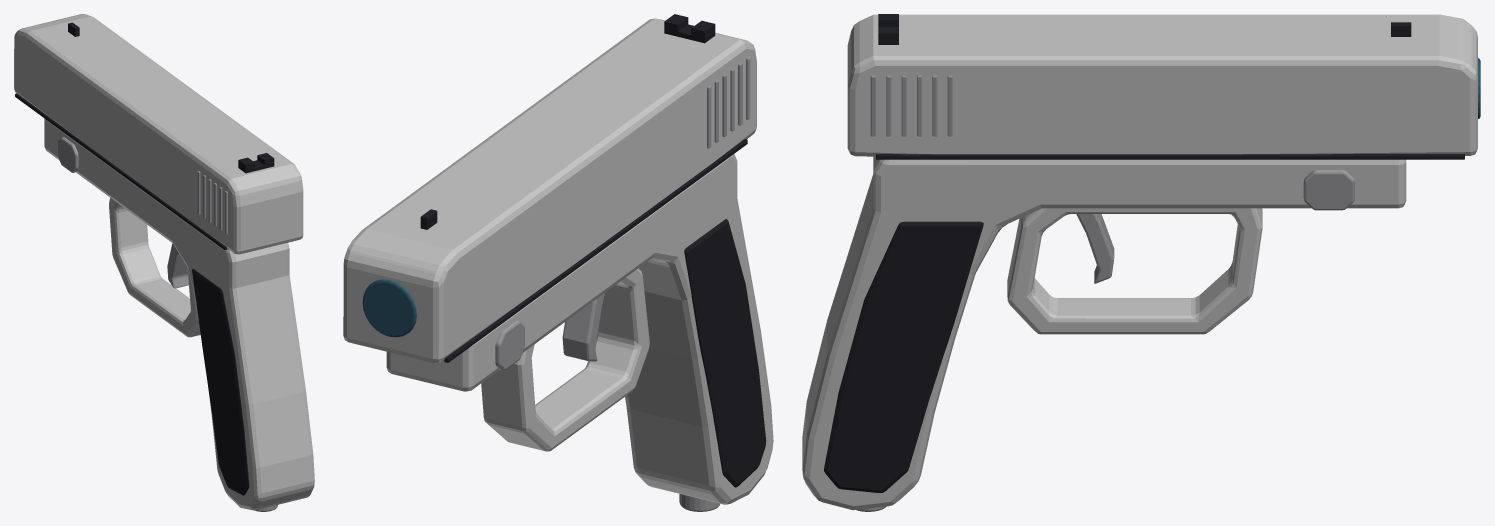
File: funcon.glb
The picture shows the model from 3 angles, left to right: view 1: azimuth 30°, elevation 25°; view 2: azimuth 150°, elevation 25°; view 3: azimuth 270°, elevation 25°; orthographic projection. The views are drawn at different scales.
Parts seen in each view (by area): view 1: barrel_shell_lod0, frame_lod0, grip_panel_left_lod0, trigger_guard_lod0, slide_seam_-1_lod0, trigger_lod0, button_a_cap_lod0, rear_sight_geometry_lod0; view 2: barrel_shell_lod0, frame_lod0, trigger_guard_lod0, grip_panel_left_lod0, muzzle_lens_lod0, slide_seam_-1_lod0, trigger_lod0, button_a_cap_lod0, rear_sight_geometry_lod0, cable_boss_lod0; view 3: barrel_shell_lod0, frame_lod0, hand_grip_lod0, trigger_guard_lod0, slide_seam_1_lod0, button_b_cap_lod0, trigger_lod0.
Boxes of the visible parts, x1,y1,x2,y2 form: barrel_shell_lod0: (14,14,303,254); frame_lod0: (44,118,314,510); grip_panel_left_lod0: (192,268,249,495); trigger_guard_lod0: (109,197,200,337); slide_seam_-1_lod0: (15,93,227,249); trigger_lod0: (167,243,188,288); button_a_cap_lod0: (58,137,78,172); rear_sight_geometry_lod0: (238,153,274,173); barrel_shell_lod0: (343,18,756,363); frame_lod0: (386,154,773,504); trigger_guard_lod0: (481,268,649,451); grip_panel_left_lod0: (684,219,766,487); muzzle_lens_lod0: (362,279,416,337); slide_seam_-1_lod0: (444,139,747,362); trigger_lod0: (562,293,604,361); button_a_cap_lod0: (495,320,524,370); rear_sight_geometry_lod0: (664,14,715,43); cable_boss_lod0: (679,494,719,511); barrel_shell_lod0: (847,14,1477,156); frame_lod0: (802,156,1406,510); hand_grip_lod0: (824,221,983,492); trigger_guard_lod0: (1007,208,1262,334); slide_seam_1_lod0: (876,154,1464,159); button_b_cap_lod0: (1303,169,1354,210); trigger_lod0: (1076,214,1114,283).
Size of what is drawn, in the model's own units: 0.046 by 0.207 by 0.2647.
